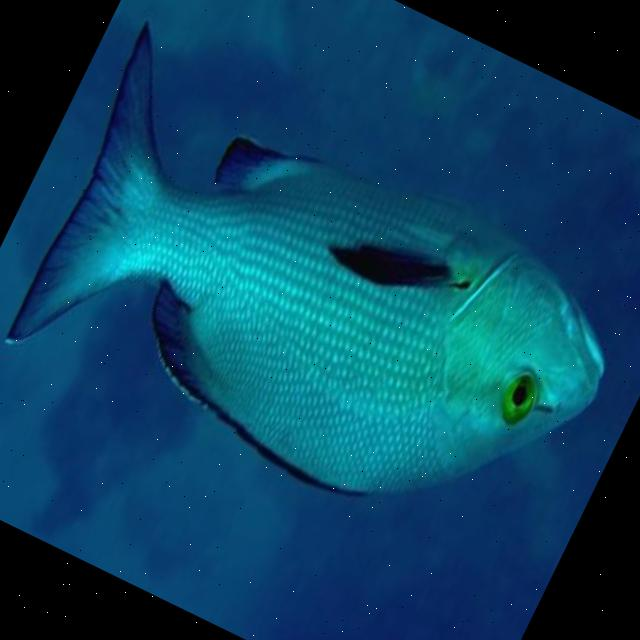ikan: (0, 21, 640, 589)
